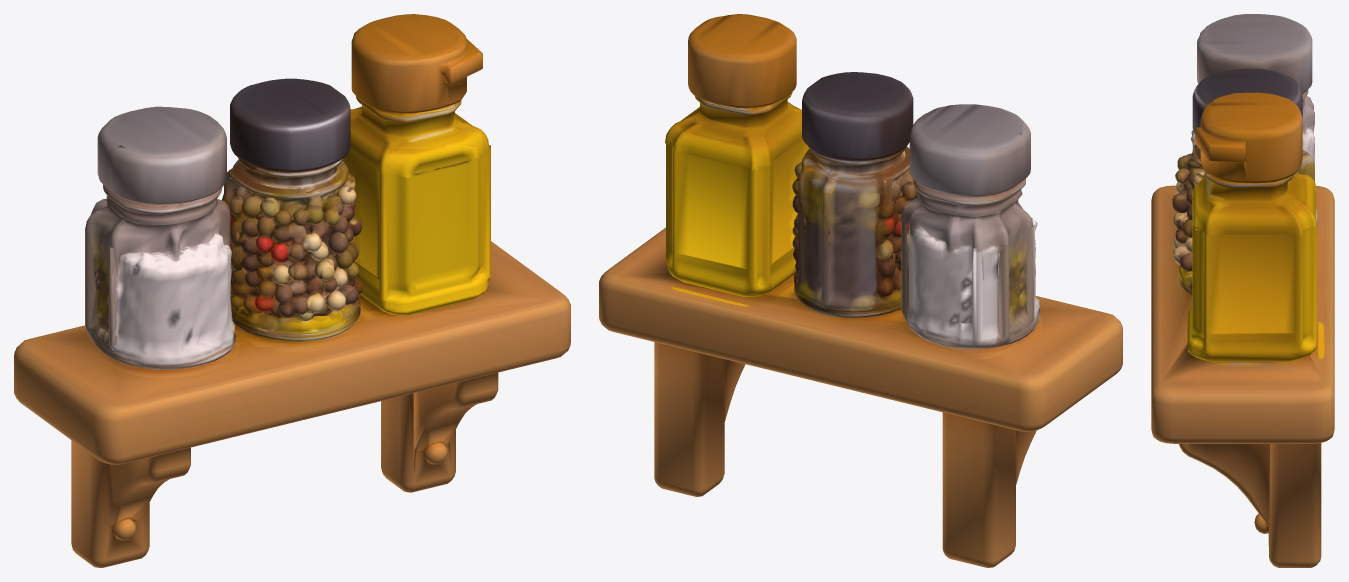
The model's file is spice-rack.glb.
3 renders of one model, left to right at view 1: azimuth 30°, elevation 25°; view 2: azimuth 150°, elevation 25°; view 3: azimuth 270°, elevation 25°, orthographic. The views are drawn at different scales.
Visible parts, largest first — view 1: spice_rack_mesh; view 2: spice_rack_mesh; view 3: spice_rack_mesh.
Part boxes in pixels (x1,y1,x2,y2): spice_rack_mesh: (14, 14, 570, 567); spice_rack_mesh: (599, 14, 1122, 567); spice_rack_mesh: (1151, 14, 1334, 567).
Bounding box in the file's own units: 0.74 × 0.7035 × 0.2695.
1 material, 1 textured.
